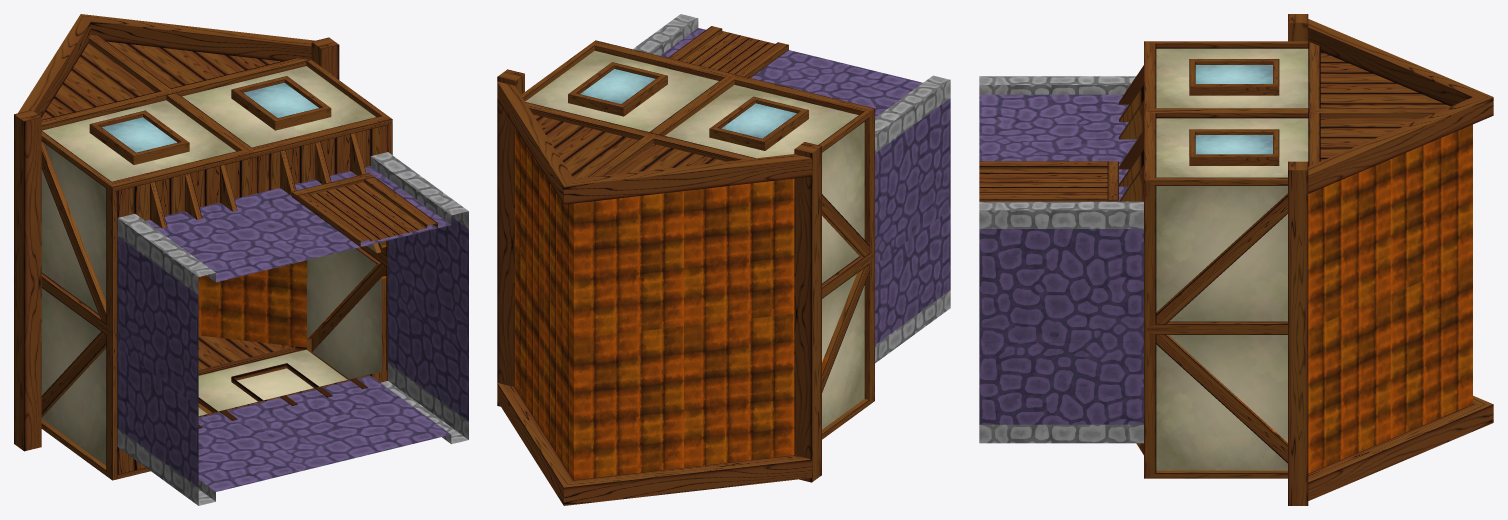
Rendered from Medieval_House_05.fbx.
3 renders of one model, left to right at view 1: azimuth 30°, elevation 25°; view 2: azimuth 150°, elevation 25°; view 3: azimuth 270°, elevation 25°, orthographic.
Visible parts, largest first — view 1: Medieval_House_05; view 2: Medieval_House_05; view 3: Medieval_House_05.
Boxes of the visible parts, bbox=[...] form: Medieval_House_05: bbox=[14, 14, 468, 505]; Medieval_House_05: bbox=[497, 14, 950, 505]; Medieval_House_05: bbox=[979, 14, 1493, 505].
Bounding box in the file's own units: 573 × 573 × 796.
